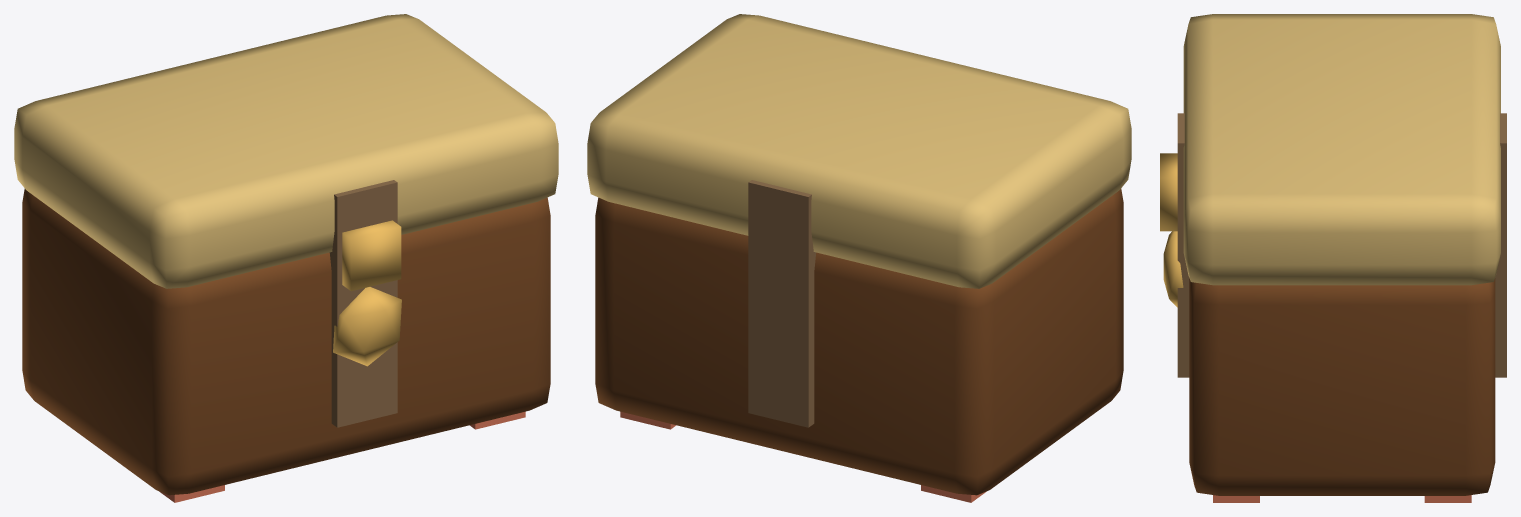
Rendered from chest.glb.
The picture shows the model from 3 angles, left to right: view 1: azimuth 30°, elevation 25°; view 2: azimuth 150°, elevation 25°; view 3: azimuth 270°, elevation 25°; orthographic projection.
Visible parts, largest first — view 1: chest_body, chest_lid, chest_strap, chest_badge, chest_latch; view 2: chest_body, chest_lid, chest_strap; view 3: chest_lid, chest_body, chest_strap, chest_latch, chest_badge.
Boxes of the visible parts, left/top/right/bottom form: chest_body: left=22, top=188, right=550, bottom=495; chest_lid: left=14, top=14, right=558, bottom=288; chest_strap: left=329, top=180, right=397, bottom=427; chest_badge: left=333, top=287, right=401, bottom=366; chest_latch: left=342, top=220, right=401, bottom=291; chest_body: left=595, top=188, right=1123, bottom=495; chest_lid: left=587, top=14, right=1131, bottom=288; chest_strap: left=748, top=180, right=816, bottom=427; chest_lid: left=1183, top=14, right=1500, bottom=285; chest_body: left=1189, top=278, right=1495, bottom=495; chest_strap: left=1177, top=113, right=1506, bottom=377; chest_latch: left=1160, top=153, right=1177, bottom=231; chest_badge: left=1163, top=231, right=1183, bottom=307.
Size of the model in its own units: 0.8 by 0.58 by 0.59.
